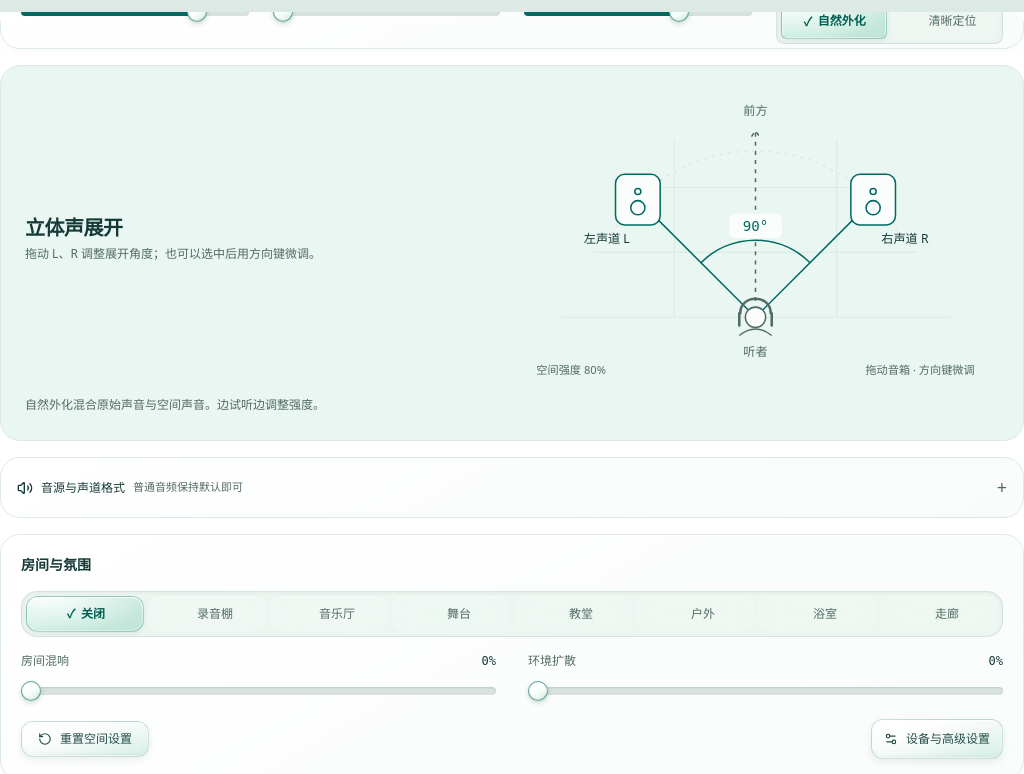
it: 空间页面完成度：真实参数与节点接线 › 不对称摆位明确呈现单组参数的近似限制
The image size is (1024, 774).
(page scrolled)
Click the button "设备与高级设置" at [937, 739], box [871,719,1003,759]
(page scrolled)
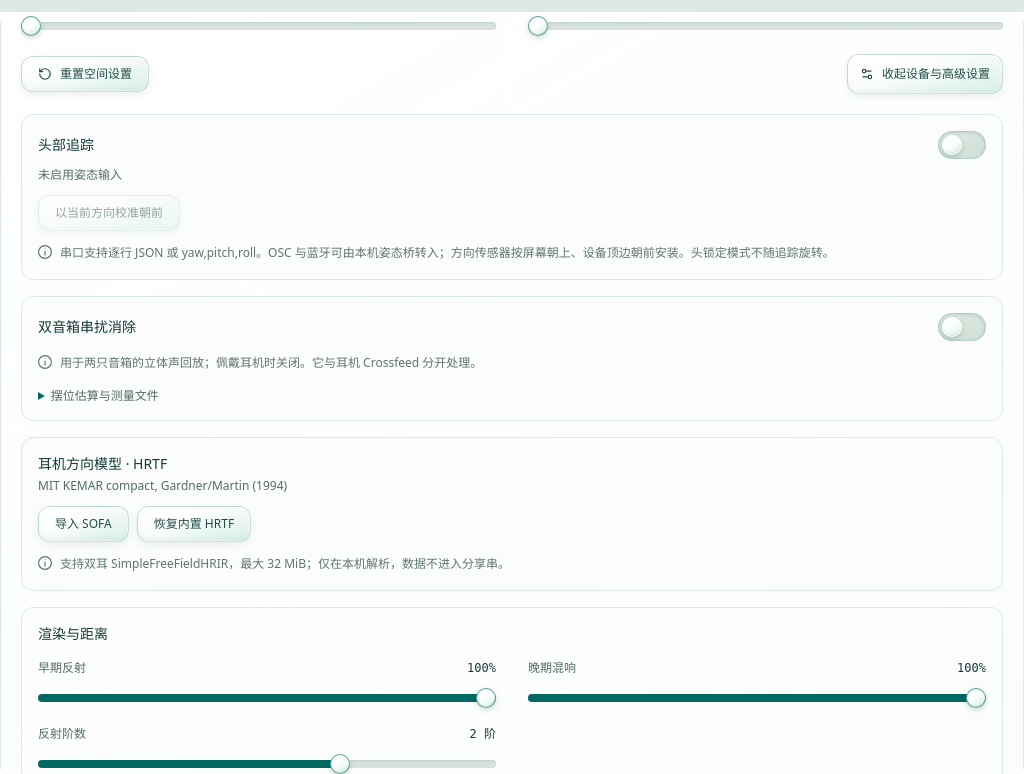
Click the heading "摆位估算与测量文件" at [105, 396], box [51,387,159,404]
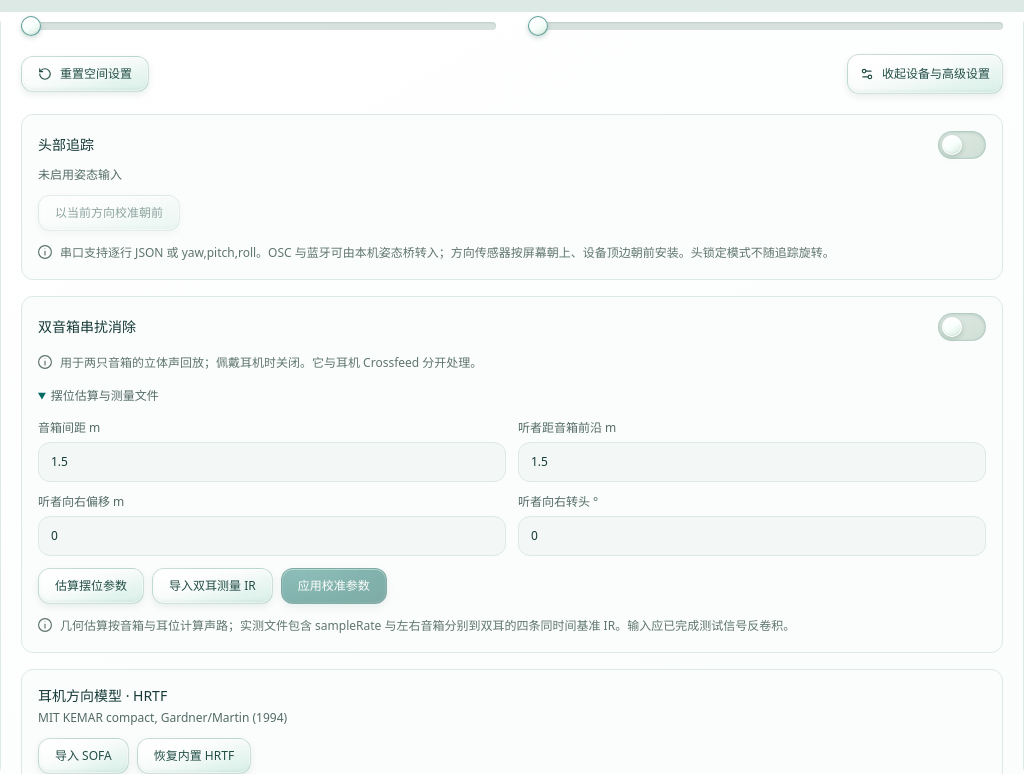
Replace the text in the number field labelled "听者向右偏移 m" with "0.6" at [272, 536], box [38,516,506,556]
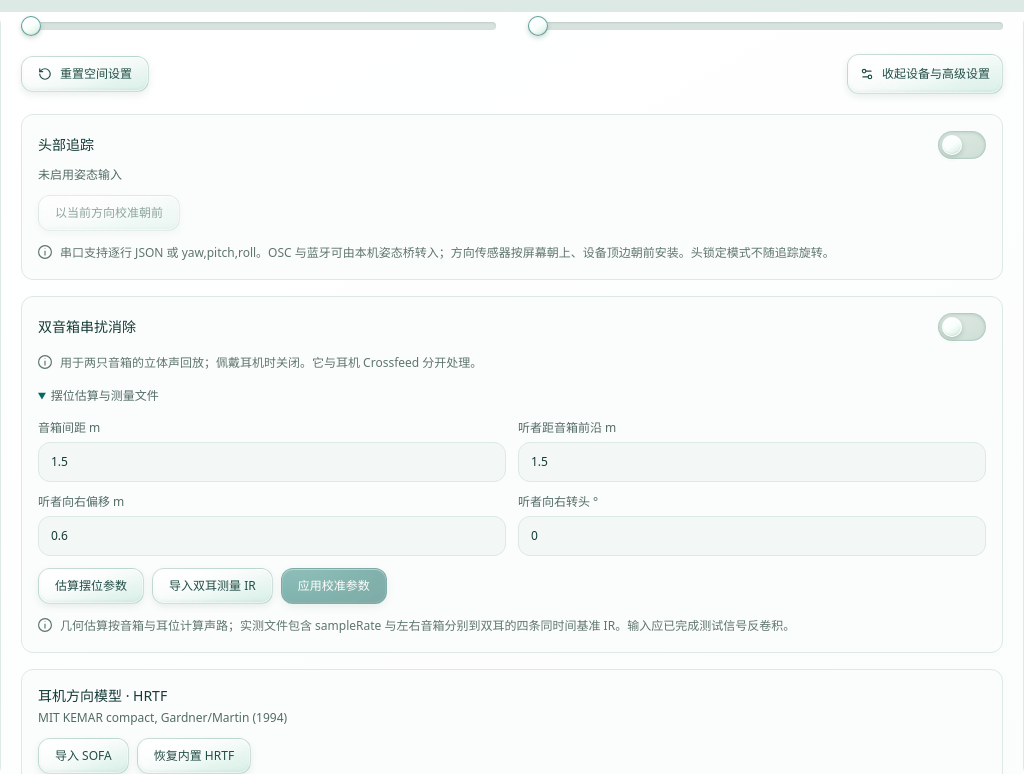
Click the button "估算摆位参数" at [91, 586], box [38,568,144,604]
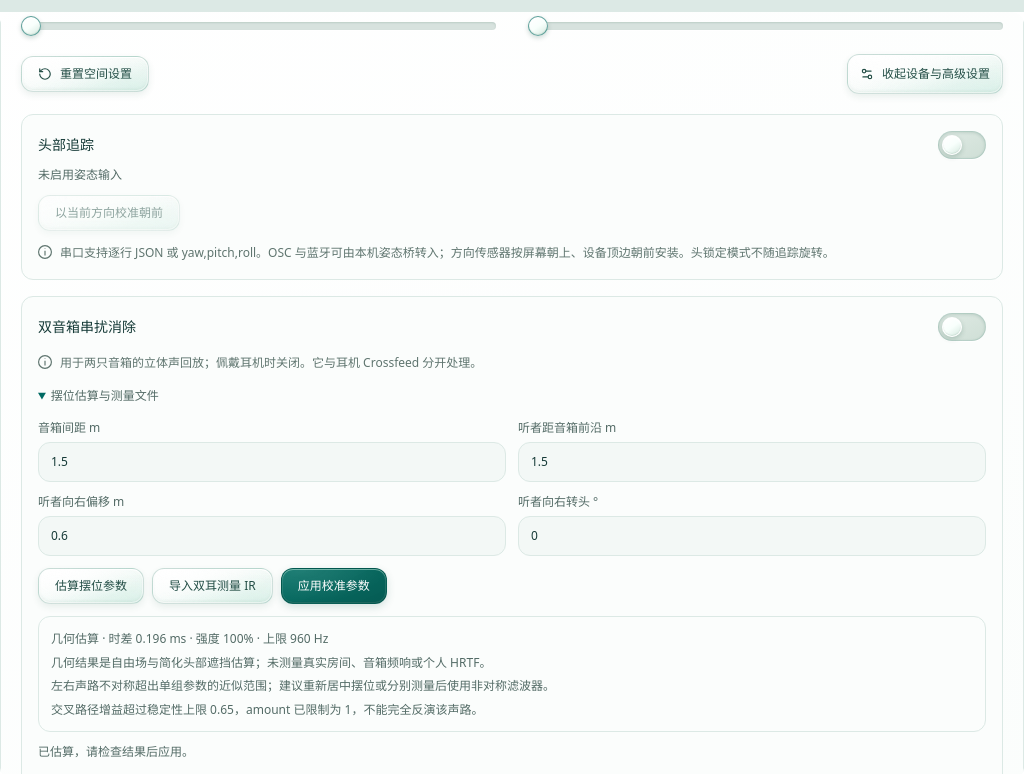
Expected: the text "左右声路不对称超出单组参数的近似范围；建议重新居中摆位或分别测量后使用非对称滤波器。" is shown, [51,677,555,694]
